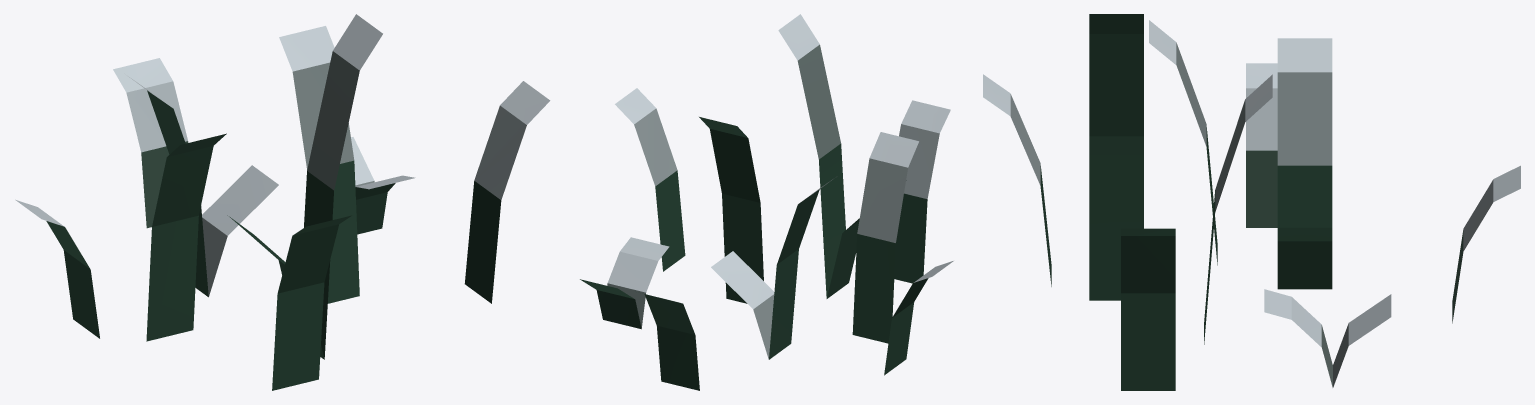
File: grass.glb
3 renders of one model, left to right at view 1: azimuth 30°, elevation 25°; view 2: azimuth 150°, elevation 25°; view 3: azimuth 270°, elevation 25°, orthographic. The views are drawn at different scales.
Visible parts, largest first — view 1: grass; view 2: grass; view 3: grass.
Part boxes in pixels (bbox=[...]): grass: bbox=[15, 14, 550, 390]; grass: bbox=[580, 14, 953, 390]; grass: bbox=[983, 14, 1520, 390].
Size of the model in its own units: 0.3811 by 0.254 by 0.3922.
